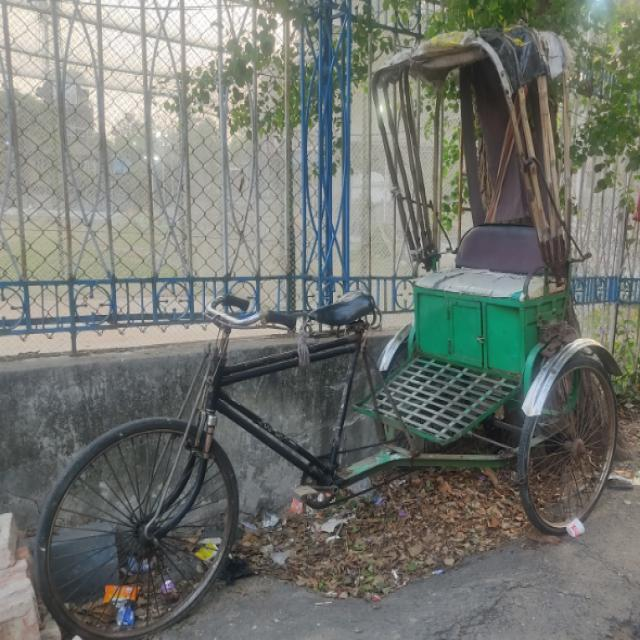rickshaw: (33, 23, 622, 628)
